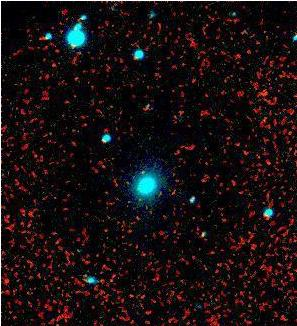star: (127, 158, 157, 188)
